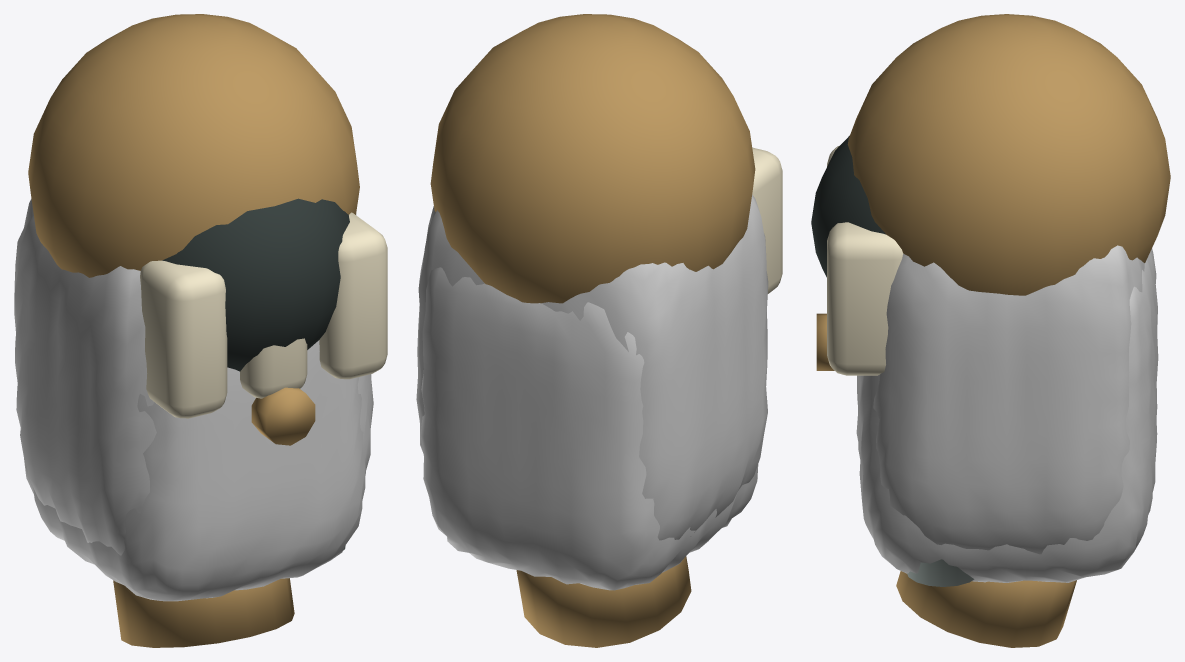
The model's file is deadeye-arm-0.glb.
3 views of the same model, side by side, from view 1: azimuth 30°, elevation 25°; view 2: azimuth 150°, elevation 25°; view 3: azimuth 270°, elevation 25° (orthographic). The views are drawn at different scales.
Visible parts, largest first — view 1: upper_brass, lower_clay, upper_clay, hand_ivory, hand_mechanism, lower_brass; view 2: upper_brass, lower_clay, upper_clay, lower_brass, hand_ivory; view 3: upper_brass, upper_clay, lower_clay, lower_brass, hand_ivory, hand_mechanism, upper_steel.
Boxes of the visible parts, box(x1,y1,x2,y2) form: upper_brass: box(28, 14, 359, 277); lower_clay: box(20, 340, 365, 601); upper_clay: box(14, 199, 373, 555); hand_ivory: box(140, 212, 387, 418); hand_mechanism: box(162, 198, 349, 371); lower_brass: box(113, 387, 315, 647); upper_brass: box(430, 14, 755, 303); lower_clay: box(420, 267, 758, 590); upper_clay: box(416, 195, 768, 540); lower_brass: box(516, 556, 691, 647); hand_ivory: box(752, 147, 782, 293); upper_brass: box(847, 14, 1170, 295); upper_clay: box(873, 245, 1144, 554); lower_clay: box(856, 248, 1158, 582); lower_brass: box(816, 313, 1076, 647); hand_ivory: box(827, 146, 903, 375); hand_mechanism: box(811, 135, 885, 277); upper_steel: box(907, 559, 974, 586).
Size of the model in its own units: 0.36 by 0.725 by 0.395.
